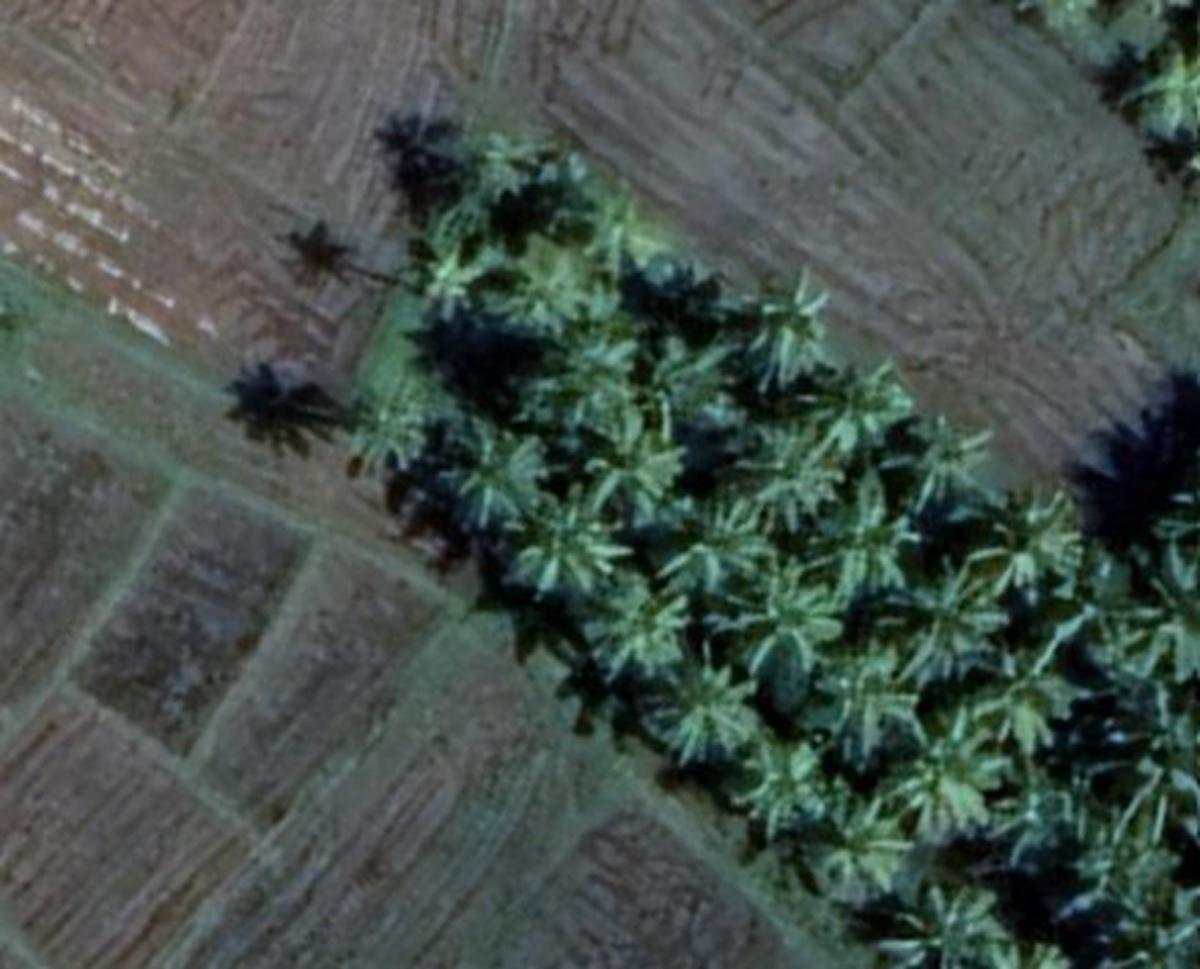coconut: (727, 565, 856, 708), (431, 417, 551, 543), (653, 496, 777, 612), (870, 562, 985, 680), (590, 439, 700, 559), (988, 485, 1090, 612), (980, 642, 1092, 757), (749, 277, 854, 398), (1109, 713, 1200, 850), (886, 417, 991, 535), (895, 713, 991, 842), (626, 326, 735, 439), (812, 796, 914, 914), (656, 667, 760, 782), (510, 494, 620, 595), (1117, 554, 1200, 680), (582, 584, 681, 689), (735, 411, 834, 516), (738, 727, 832, 834), (466, 129, 579, 214), (505, 249, 601, 345), (826, 356, 911, 463), (821, 491, 914, 579), (994, 774, 1087, 861), (582, 194, 678, 277), (900, 881, 985, 969), (409, 244, 483, 321), (337, 403, 417, 474)
